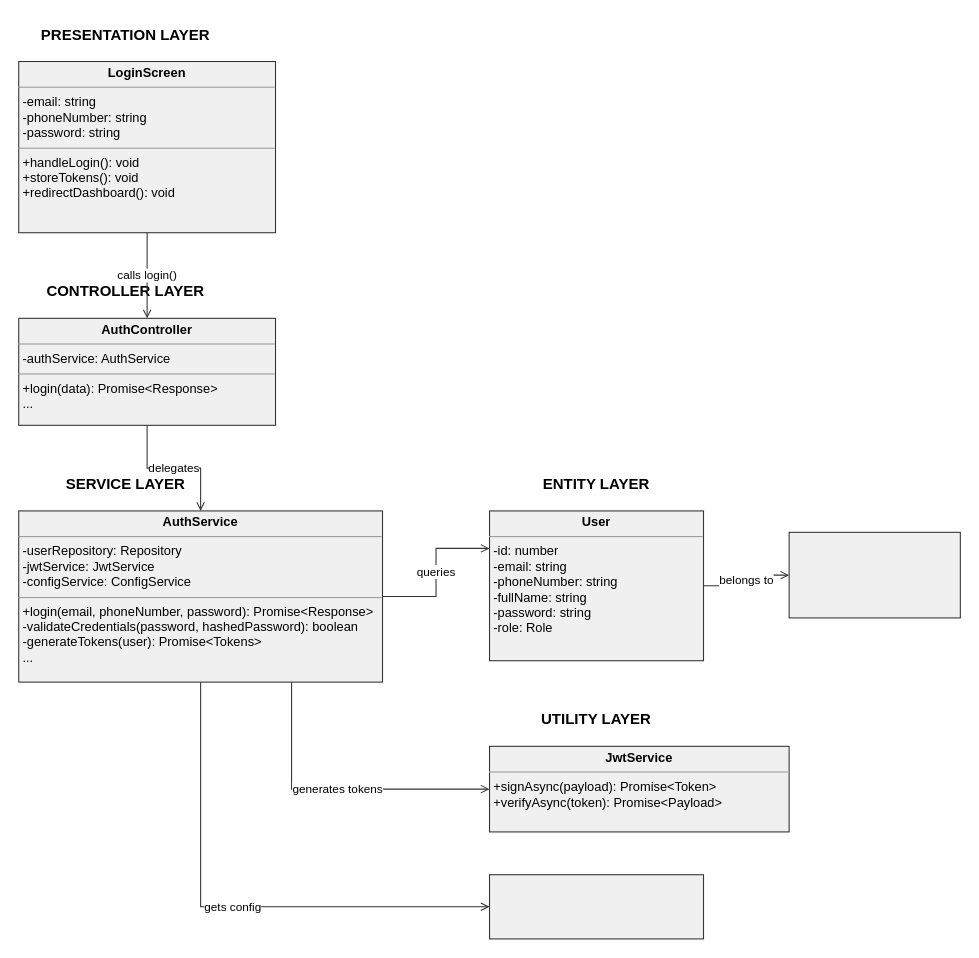
Image size: 979x958. Some labels were removed from this diagram. Each missing label, with the centre of its shape:
ConfigService +get(key: string): any: point 596,906
Role -id: number -name: string: point 874,574
